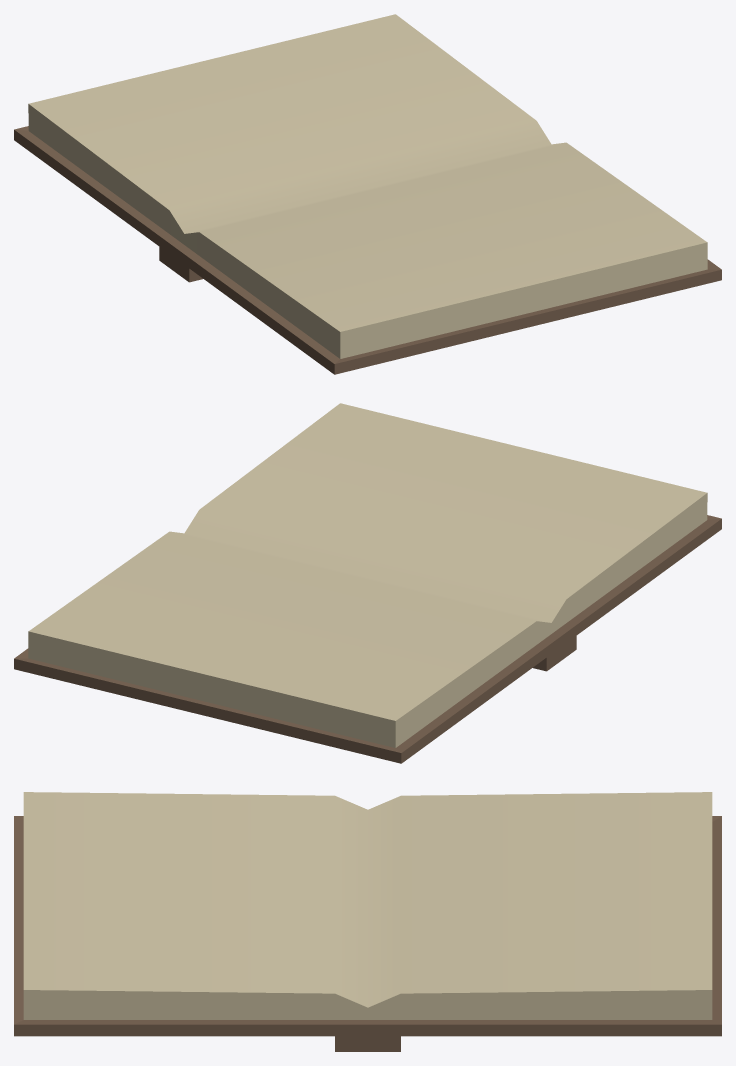
File: Journal_Seperate.fbx
3 views of the same model, one above another, from view 1: azimuth 30°, elevation 25°; view 2: azimuth 150°, elevation 25°; view 3: azimuth 270°, elevation 25° (orthographic). The views are drawn at different scales.
Visible parts, largest first — view 1: Pages1, Cover; view 2: Pages1, Cover; view 3: Pages1, Cover.
Part boxes in pixels (box(x1,y1,x2,y2)): Pages1: box(28, 14, 707, 358); Cover: box(14, 126, 721, 374); Pages1: box(28, 403, 707, 747); Cover: box(14, 515, 721, 763); Pages1: box(23, 792, 712, 1019); Cover: box(14, 816, 721, 1051).
Bounding box in the file's own units: 4.2 × 0.5305 × 6.02.
